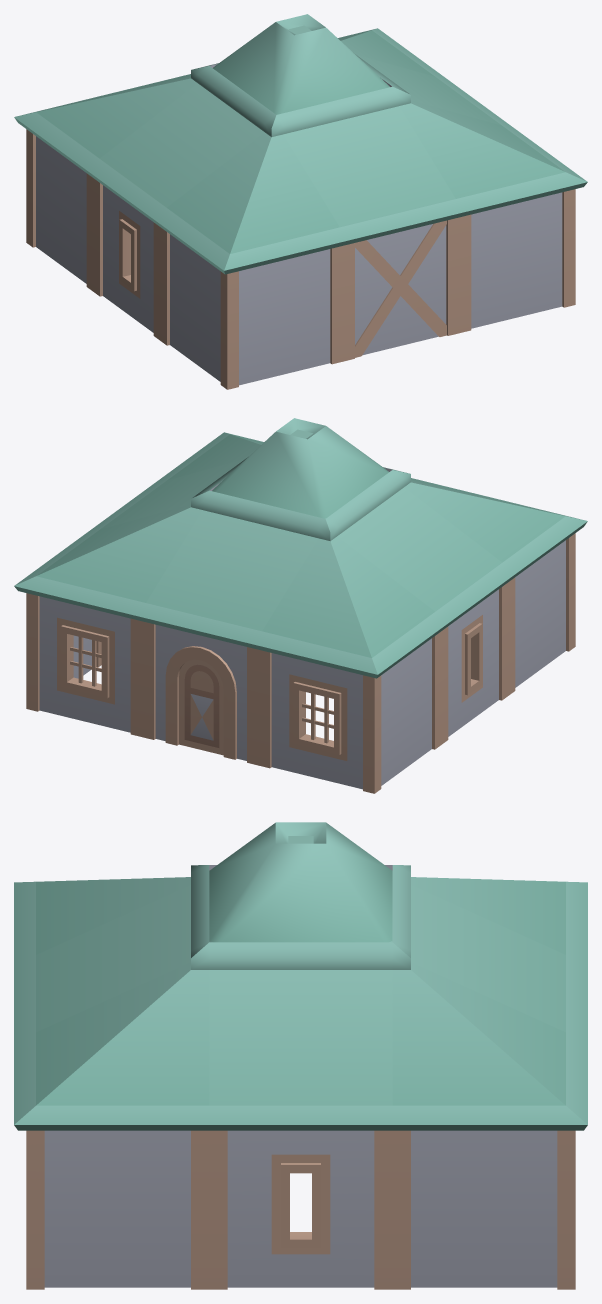
Rendered from house_b.glb.
3 views of the same model, one above another, from view 1: azimuth 30°, elevation 25°; view 2: azimuth 150°, elevation 25°; view 3: azimuth 270°, elevation 25° (orthographic). The views are drawn at different scales.
Parts seen in each view (by area): view 1: merged; view 2: merged; view 3: merged.
Part boxes in pixels (x1,y1,x2,y2): merged: (14,14,587,389); merged: (14,418,587,793); merged: (14,822,587,1289).
Size of the model in its own units: 8.15 by 5.33 by 8.15.
